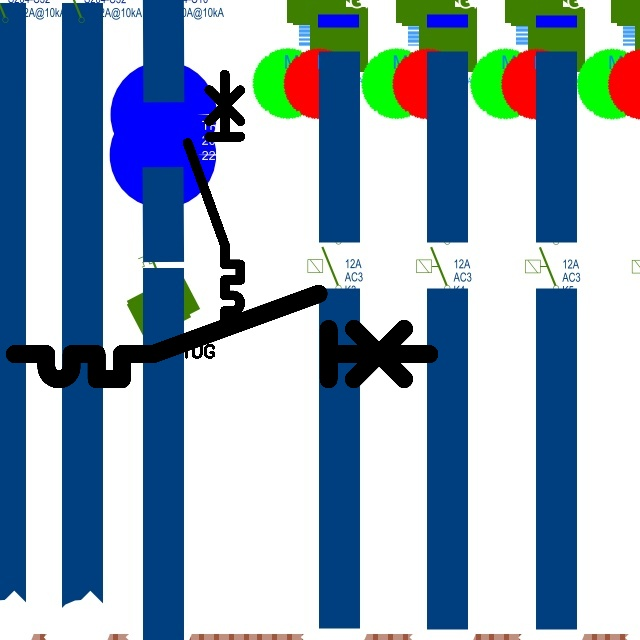interruptor_termomagnetico: (4, 283, 440, 390), (181, 68, 247, 337)
